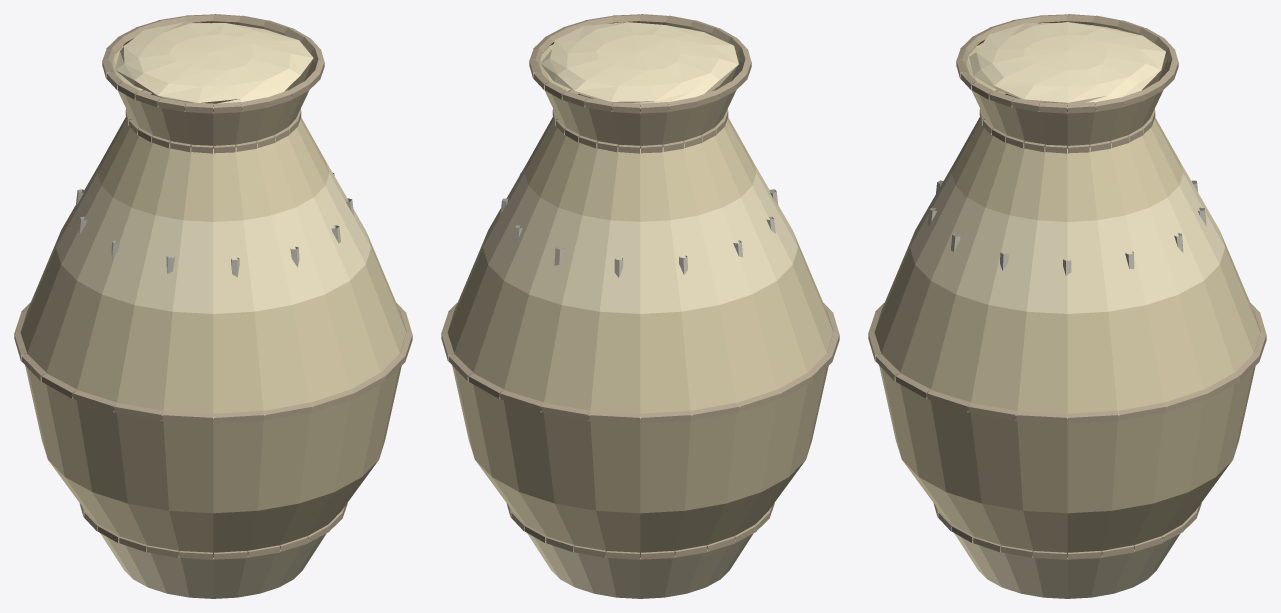
The model's file is whale_oil.glb.
The picture shows the model from 3 angles, left to right: view 1: azimuth 30°, elevation 25°; view 2: azimuth 150°, elevation 25°; view 3: azimuth 270°, elevation 25°; orthographic projection.
Visible parts, largest first — view 1: whale_oil; view 2: whale_oil; view 3: whale_oil.
Boxes of the visible parts, box(x1,y1,x2,y2) form: whale_oil: box(14, 14, 412, 598); whale_oil: box(441, 14, 839, 598); whale_oil: box(868, 14, 1266, 598).
Bounding box in the file's own units: 0.8593 × 1.21 × 0.8593.
